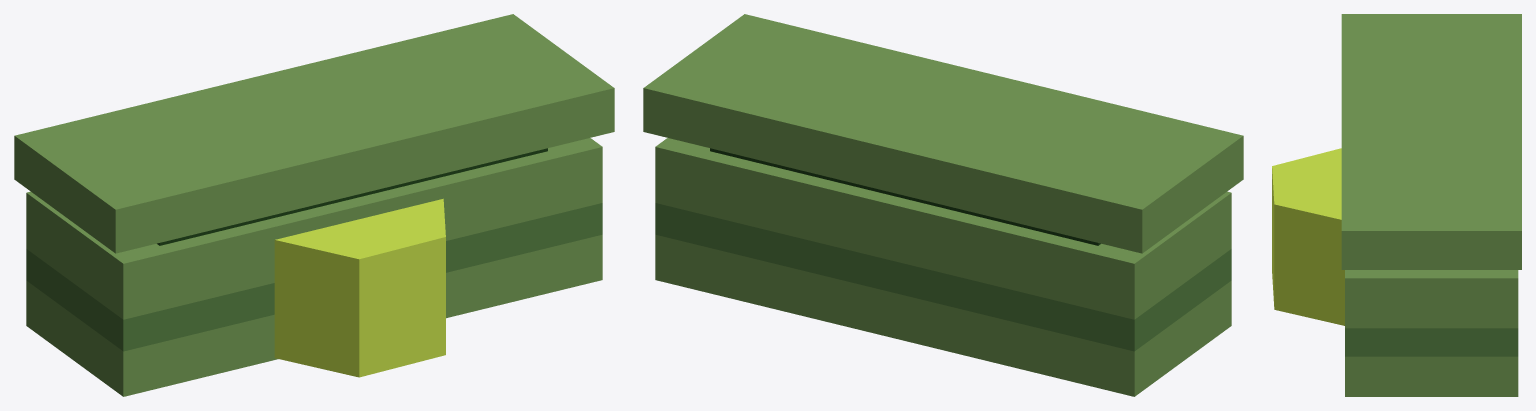
File: SimplePlatform.fbx
3 views of the same model, side by side, from view 1: azimuth 30°, elevation 25°; view 2: azimuth 150°, elevation 25°; view 3: azimuth 270°, elevation 25° (orthographic). The views are drawn at different scales.
Visible parts, largest first — view 1: platform; view 2: platform; view 3: platform.
Part boxes in pixels (x1,y1,x2,y2): platform: (14, 14, 614, 396); platform: (643, 14, 1243, 396); platform: (1272, 14, 1521, 396).
Bounding box in the file's own units: 2502 × 916 × 1218.
